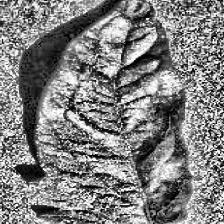spider mites: (29, 0, 203, 224)
